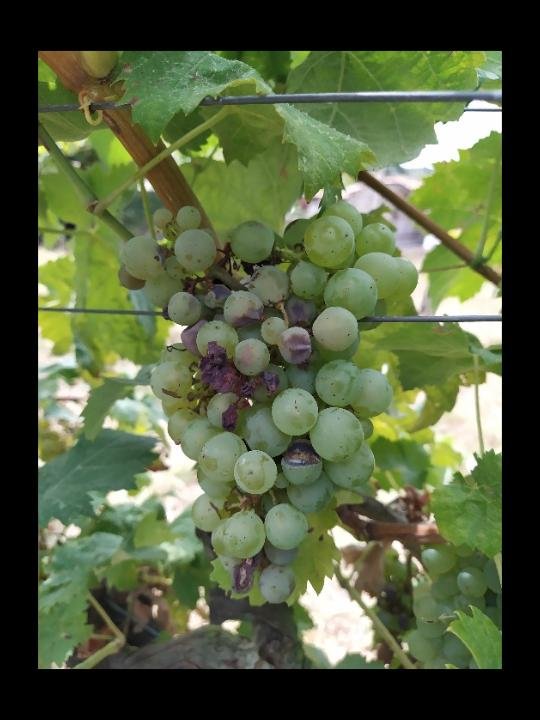grape: (118, 198, 421, 606)
